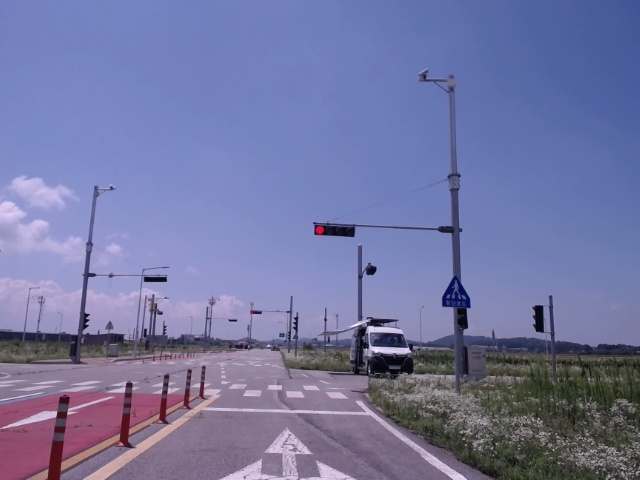red_4: (314, 225, 354, 237)
